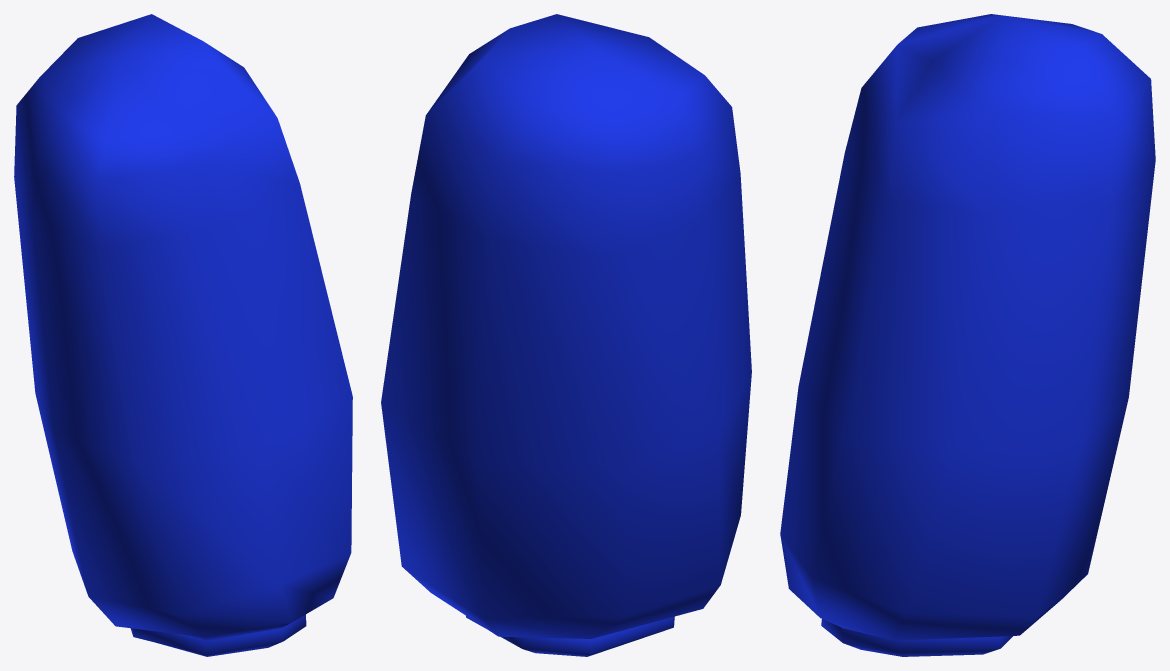
Rendered from Turtleneck leftlower.fbx.
3 views of the same model, side by side, from view 1: azimuth 30°, elevation 25°; view 2: azimuth 150°, elevation 25°; view 3: azimuth 270°, elevation 25° (orthographic). The views are drawn at different scales.
Parts seen in each view (by area): view 1: LeftLowerLongSleeve.002; view 2: LeftLowerLongSleeve.002; view 3: LeftLowerLongSleeve.002.
Part boxes in pixels (bbox=[...]): LeftLowerLongSleeve.002: bbox=[14, 14, 352, 656]; LeftLowerLongSleeve.002: bbox=[381, 14, 751, 656]; LeftLowerLongSleeve.002: bbox=[780, 14, 1155, 656].
Size of the model in its own units: 23.32 by 45.41 by 26.38.
